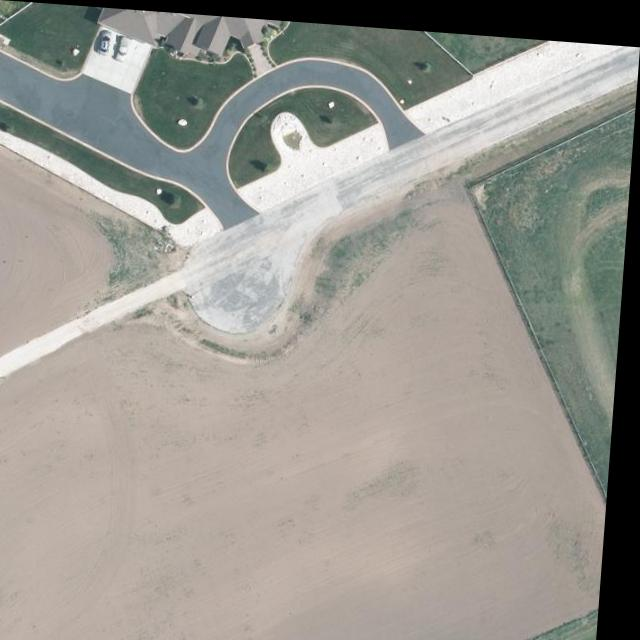vehicle: (96, 28, 115, 55), (116, 35, 133, 62)
